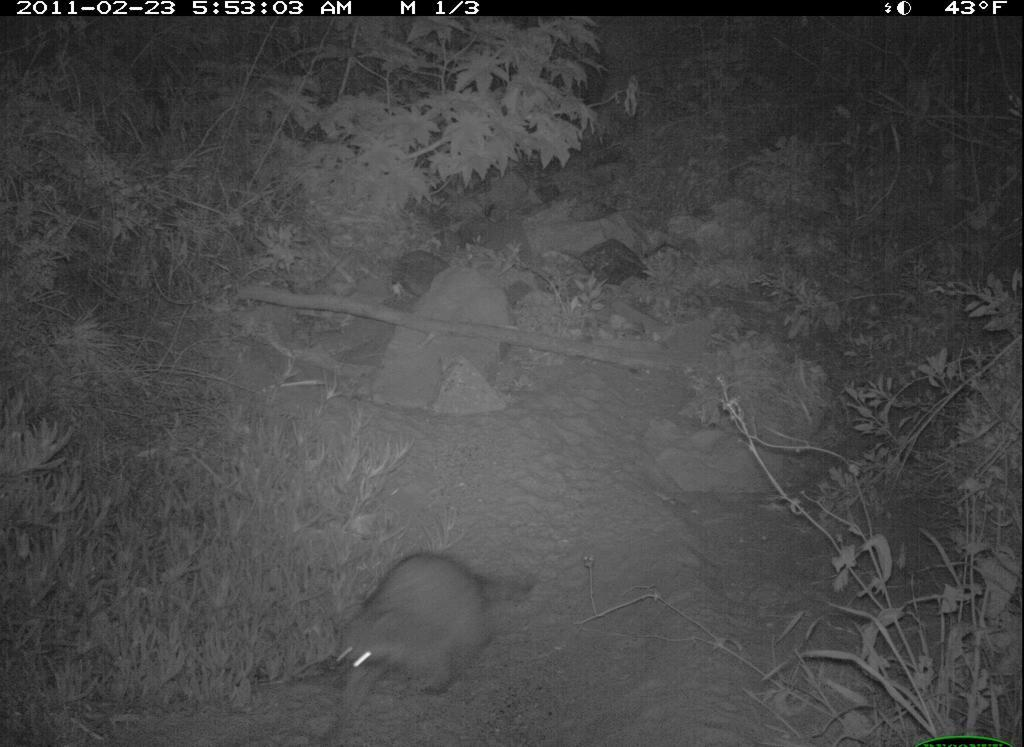raccoon: (326, 542, 548, 710)
